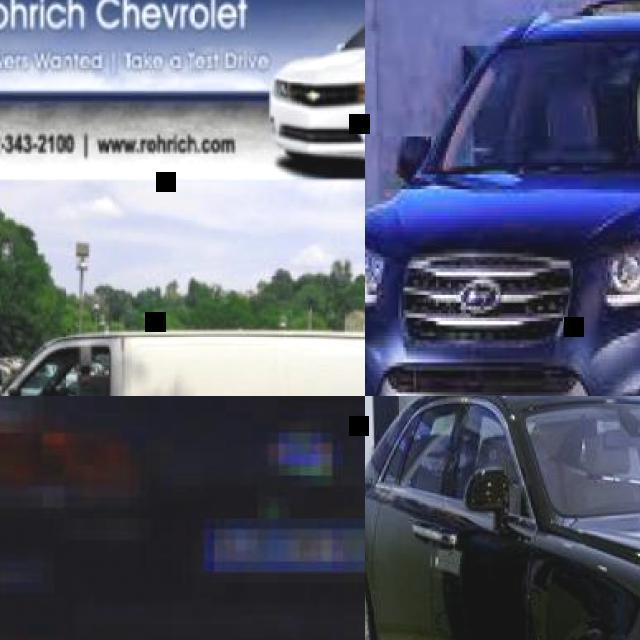car: (364, 392, 640, 637), (268, 22, 363, 170)
